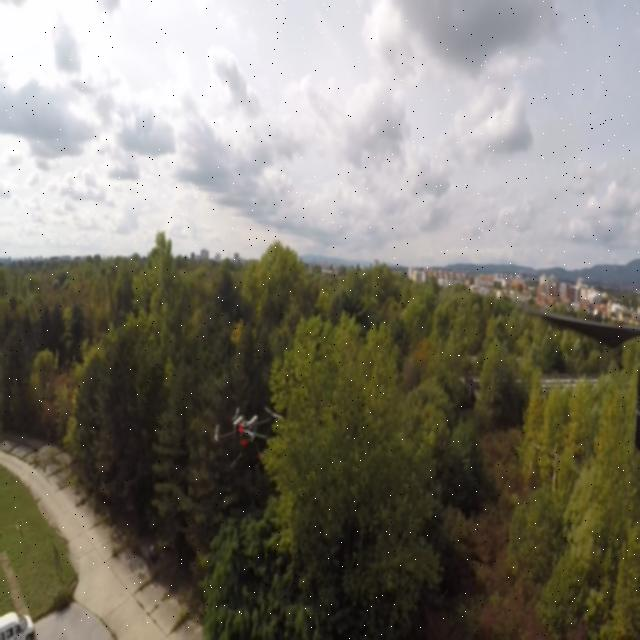UAV: (210, 403, 286, 479)
